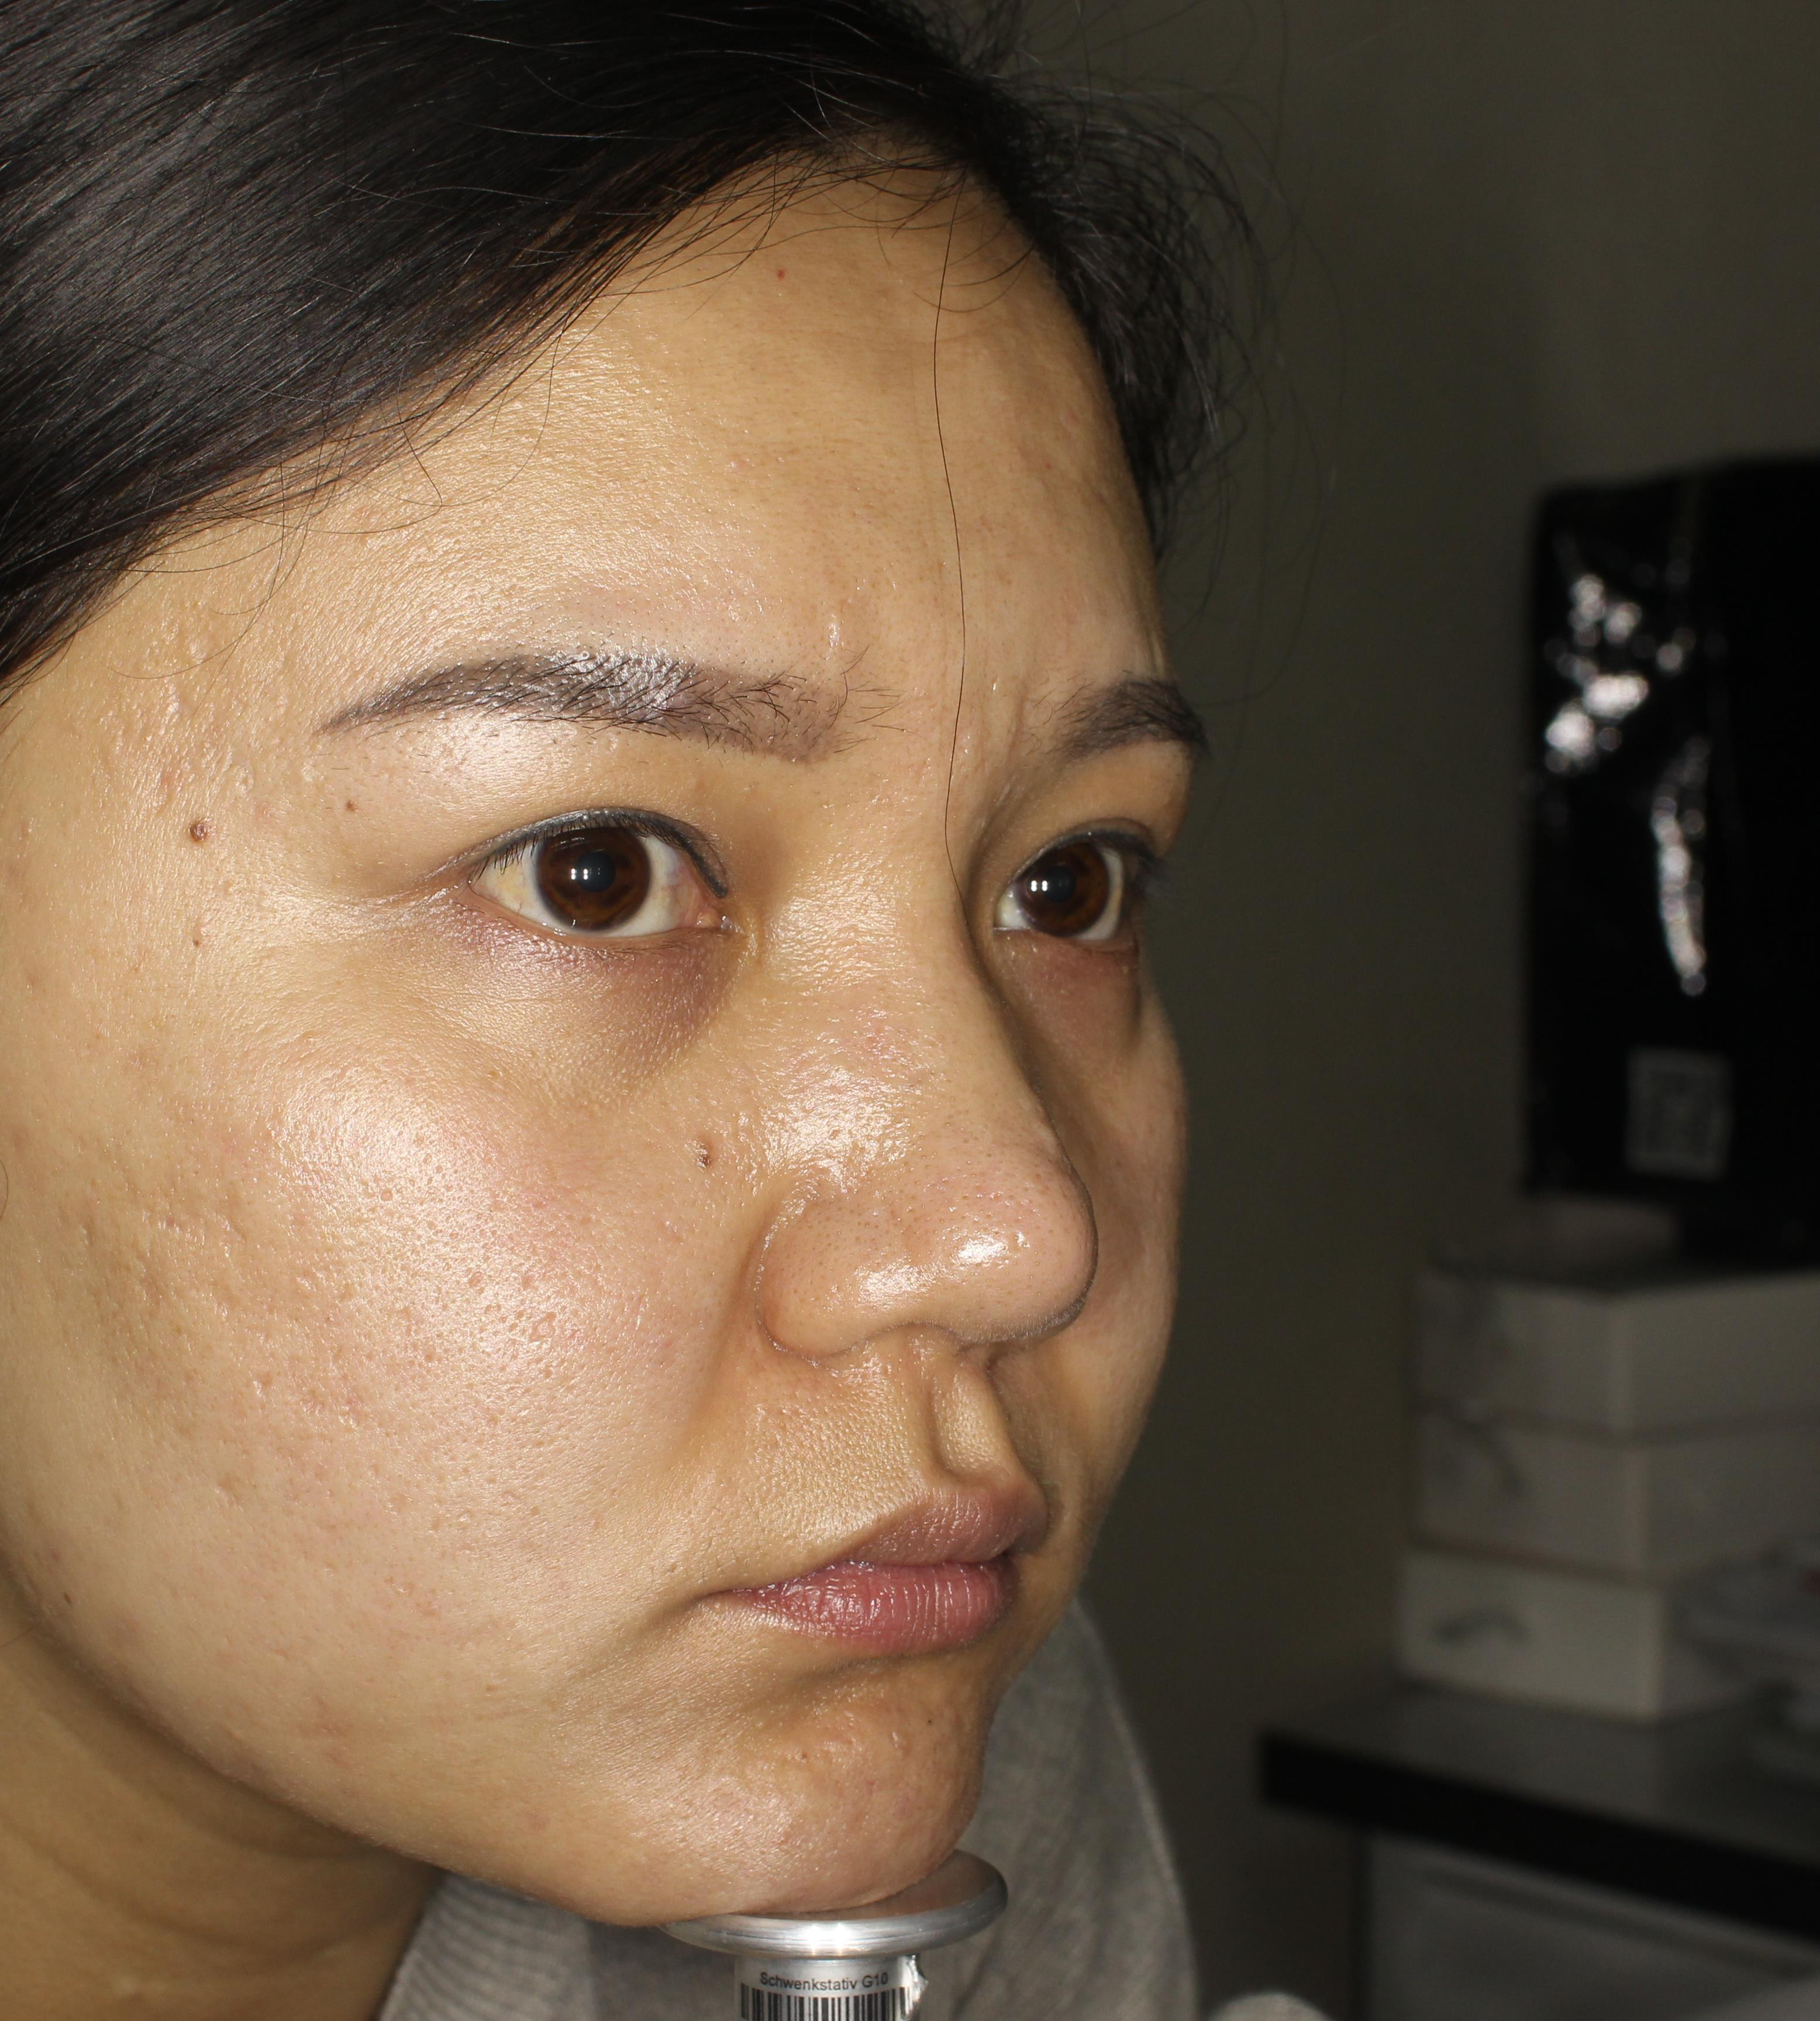fore: (112, 734, 207, 797)
